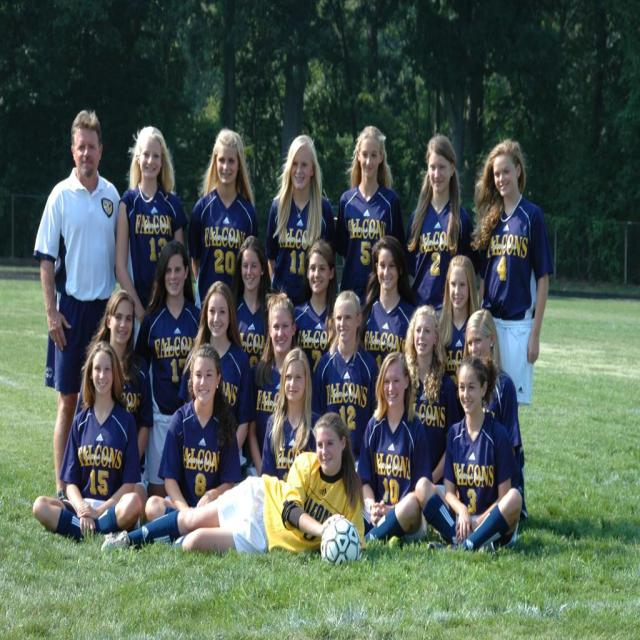Face: (70, 109, 102, 176), (489, 144, 523, 203), (286, 141, 321, 194), (283, 348, 311, 409), (458, 361, 485, 424), (465, 320, 499, 369), (330, 293, 362, 345), (108, 295, 136, 349), (190, 356, 220, 406), (163, 251, 192, 301), (270, 305, 294, 364), (374, 250, 401, 302), (425, 141, 452, 192), (91, 349, 118, 399), (208, 289, 233, 341), (307, 249, 334, 297), (413, 309, 436, 365), (315, 427, 343, 472), (215, 136, 238, 190), (140, 138, 168, 182), (449, 263, 473, 314), (243, 243, 264, 299), (360, 136, 385, 181), (382, 367, 404, 415)
